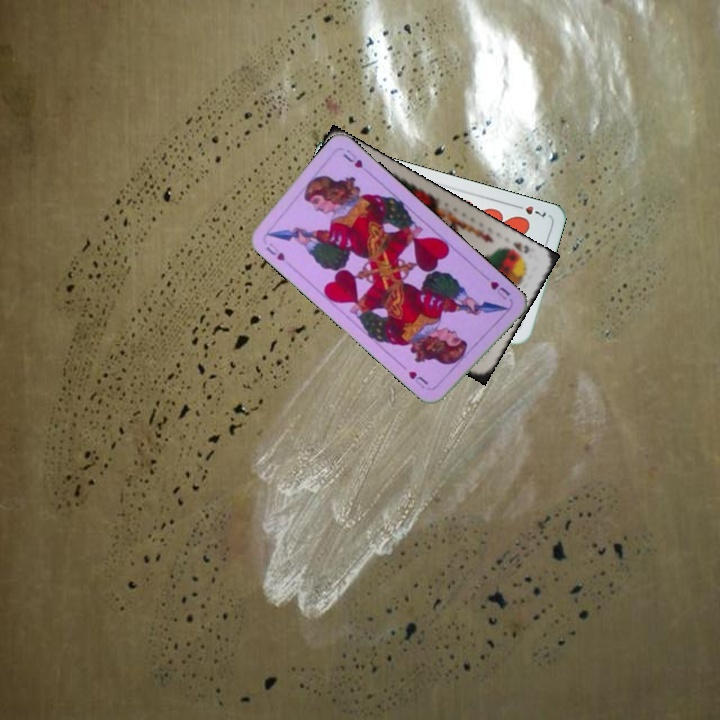H7: (511, 201, 549, 220)
HU: (480, 272, 513, 303), (262, 243, 287, 263)
SK: (500, 238, 532, 260)
